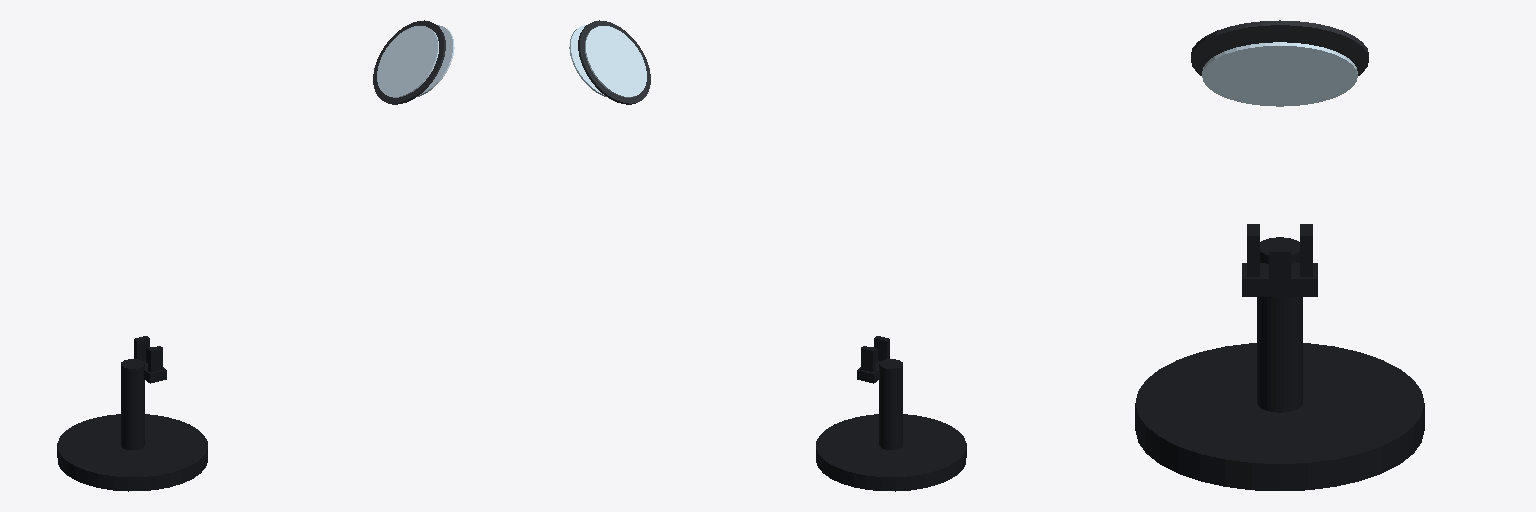
The robot description file, URDF, robot "magnifier_task_lamp":
<robot name="magnifier_task_lamp">
  <material name="base_finish">
    <color rgba="0.14 0.15 0.17 1" />
    </material>
  <material name="arm_finish">
    <color rgba="0.66 0.68 0.71 1" />
    </material>
  <material name="housing_finish">
    <color rgba="0.9 0.91 0.89 1" />
    </material>
  <material name="trim_finish">
    <color rgba="0.23 0.24 0.26 1" />
    </material>
  <material name="glass">
    <color rgba="0.82 0.9 0.95 0.4" />
    </material>
  <link name="base">
    <visual name="base_disk">
      <origin xyz="0 0 0.012" rpy="0 0 0" />
      <geometry>
        <cylinder radius="0.115" length="0.024" />
        </geometry>
      <material name="base_finish">
        <color rgba="0.14 0.15 0.17 1" />
        </material>
      </visual>
    <visual name="column">
      <origin xyz="0 0 0.092" rpy="0 0 0" />
      <geometry>
        <cylinder radius="0.018" length="0.138" />
        </geometry>
      <material name="base_finish">
        <color rgba="0.14 0.15 0.17 1" />
        </material>
      </visual>
    <visual name="fork_bridge">
      <origin xyz="0.028 0 0.145" rpy="0 0 0" />
      <geometry>
        <box size="0.03 0.06 0.016" />
        </geometry>
      <material name="base_finish">
        <color rgba="0.14 0.15 0.17 1" />
        </material>
      </visual>
    <visual name="fork_left">
      <origin xyz="0.028 0.021 0.165" rpy="0 0 0" />
      <geometry>
        <box size="0.022 0.01 0.048" />
        </geometry>
      <material name="base_finish">
        <color rgba="0.14 0.15 0.17 1" />
        </material>
      </visual>
    <visual name="fork_right">
      <origin xyz="0.028 -0.021 0.165" rpy="0 0 0" />
      <geometry>
        <box size="0.022 0.01 0.048" />
        </geometry>
      <material name="base_finish">
        <color rgba="0.14 0.15 0.17 1" />
        </material>
      </visual>
    <visual name="pivot_block">
      <origin xyz="0.036 0 0.165" rpy="0 0 0" />
      <geometry>
        <box size="0.014 0.018 0.024" />
        </geometry>
      <material name="base_finish">
        <color rgba="0.14 0.15 0.17 1" />
        </material>
      </visual>
    <collision name="base_disk">
      <origin xyz="0 0 0.012" rpy="0 0 0" />
      <geometry>
        <cylinder radius="0.115" length="0.024" />
        </geometry>
      </collision>
    <collision name="column">
      <origin xyz="0 0 0.092" rpy="0 0 0" />
      <geometry>
        <cylinder radius="0.018" length="0.138" />
        </geometry>
      </collision>
    <collision name="fork_bridge">
      <origin xyz="0.028 0 0.145" rpy="0 0 0" />
      <geometry>
        <box size="0.03 0.06 0.016" />
        </geometry>
      </collision>
    <collision name="fork_left">
      <origin xyz="0.028 0.021 0.165" rpy="0 0 0" />
      <geometry>
        <box size="0.022 0.01 0.048" />
        </geometry>
      </collision>
    <collision name="fork_right">
      <origin xyz="0.028 -0.021 0.165" rpy="0 0 0" />
      <geometry>
        <box size="0.022 0.01 0.048" />
        </geometry>
      </collision>
    <collision name="pivot_block">
      <origin xyz="0.036 0 0.165" rpy="0 0 0" />
      <geometry>
        <box size="0.014 0.018 0.024" />
        </geometry>
      </collision>
    </link>
  <link name="lower_arm">
    <visual name="lower_frame">
      <geometry>
        <mesh filename="assets/meshes/lower_frame.obj" />
        </geometry>
      <material name="arm_finish">
        <color rgba="0.66 0.68 0.71 1" />
        </material>
      </visual>
    <collision name="lower_frame">
      <geometry>
        <mesh filename="assets/meshes/lower_frame.obj" />
        </geometry>
      </collision>
    </link>
  <link name="upper_arm">
    <visual name="upper_frame">
      <geometry>
        <mesh filename="assets/meshes/upper_frame.obj" />
        </geometry>
      <material name="arm_finish">
        <color rgba="0.66 0.68 0.71 1" />
        </material>
      </visual>
    <collision name="upper_frame">
      <geometry>
        <mesh filename="assets/meshes/upper_frame.obj" />
        </geometry>
      </collision>
    </link>
  <link name="head">
    <visual name="housing">
      <geometry>
        <mesh filename="assets/meshes/head_housing.obj" />
        </geometry>
      <material name="housing_finish">
        <color rgba="0.9 0.91 0.89 1" />
        </material>
      </visual>
    <visual name="lens">
      <origin xyz="0.066 0 0" rpy="0 1.5708 0" />
      <geometry>
        <cylinder radius="0.061" length="0.005" />
        </geometry>
      <material name="glass">
        <color rgba="0.82 0.9 0.95 0.4" />
        </material>
      </visual>
    <visual name="bezel">
      <origin xyz="0.068 0 0" rpy="0 1.5708 0" />
      <geometry>
        <cylinder radius="0.071" length="0.004" />
        </geometry>
      <material name="trim_finish">
        <color rgba="0.23 0.24 0.26 1" />
        </material>
      </visual>
    <collision name="housing">
      <geometry>
        <mesh filename="assets/meshes/head_housing.obj" />
        </geometry>
      </collision>
    <collision name="lens">
      <origin xyz="0.066 0 0" rpy="0 1.5708 0" />
      <geometry>
        <cylinder radius="0.061" length="0.005" />
        </geometry>
      </collision>
    <collision name="bezel">
      <origin xyz="0.068 0 0" rpy="0 1.5708 0" />
      <geometry>
        <cylinder radius="0.071" length="0.004" />
        </geometry>
      </collision>
    </link>
  <link name="cover">
    <visual name="cover_frame">
      <geometry>
        <mesh filename="assets/meshes/cover_frame.obj" />
        </geometry>
      <material name="housing_finish">
        <color rgba="0.9 0.91 0.89 1" />
        </material>
      </visual>
    <visual name="cover_lens">
      <origin xyz="0.002 0 -0.073" rpy="0 1.5708 0" />
      <geometry>
        <cylinder radius="0.062" length="0.003" />
        </geometry>
      <material name="glass">
        <color rgba="0.82 0.9 0.95 0.4" />
        </material>
      </visual>
    <collision name="cover_frame">
      <geometry>
        <mesh filename="assets/meshes/cover_frame.obj" />
        </geometry>
      </collision>
    <collision name="cover_lens">
      <origin xyz="0.002 0 -0.073" rpy="0 1.5708 0" />
      <geometry>
        <cylinder radius="0.062" length="0.003" />
        </geometry>
      </collision>
    </link>
  <joint name="base_hinge" type="revolute">
    <origin xyz="0.039 0 0.165" rpy="0 -1.01229 0" />
    <parent link="base" />
    <child link="lower_arm" />
    <axis xyz="0 -1 0" />
    <limit effort="30" velocity="1" lower="-0.733038" upper="0.593412" />
    </joint>
  <joint name="elbow_hinge" type="revolute">
    <origin xyz="0.315 0 0" rpy="0 0.383972 0" />
    <parent link="lower_arm" />
    <child link="upper_arm" />
    <axis xyz="0 -1 0" />
    <limit effort="18" velocity="1.2" lower="-1.22173" upper="0.959931" />
    </joint>
  <joint name="head_tilt" type="revolute">
    <origin xyz="0.285 0 0" rpy="0 1.36136 0" />
    <parent link="upper_arm" />
    <child link="head" />
    <axis xyz="0 -1 0" />
    <limit effort="10" velocity="1.5" lower="-0.349066" upper="1.48353" />
    </joint>
  <joint name="cover_hinge" type="revolute">
    <origin xyz="0.086 0 0.086" rpy="0 0 0" />
    <parent link="head" />
    <child link="cover" />
    <axis xyz="0 -1 0" />
    <limit effort="2" velocity="2" lower="0" upper="2.35619" />
    </joint>
  </robot>

--- Render facts (derived) ---
3 views of the same robot in one strip: view 1: azimuth 30°, elevation 25°; view 2: azimuth 150°, elevation 25°; view 3: azimuth 270°, elevation 25° (orthographic).
Robot: magnifier_task_lamp — 5 links, 4 joints (4 revolute); root link base; default pose: all joints at 0.
Links seen in each view (by area): view 1: base, head, cover; view 2: base, head, cover; view 3: base, cover, head.
Link boxes in pixels (x1,y1,x2,y2): base: (57, 336, 207, 491); head: (373, 20, 445, 104); cover: (417, 25, 454, 96); base: (816, 336, 966, 491); head: (578, 20, 650, 104); cover: (569, 25, 606, 96); base: (1135, 224, 1424, 490); cover: (1202, 42, 1357, 106); head: (1191, 20, 1368, 75).
Bounding box of the posed robot: 0.6682 × 0.23 × 0.6083 m (x, y, z).
Meshes: 4 distinct files referenced, 0 mesh visuals loaded (none loaded); not drawn: 4 (reference not matched to a file when rendering).
